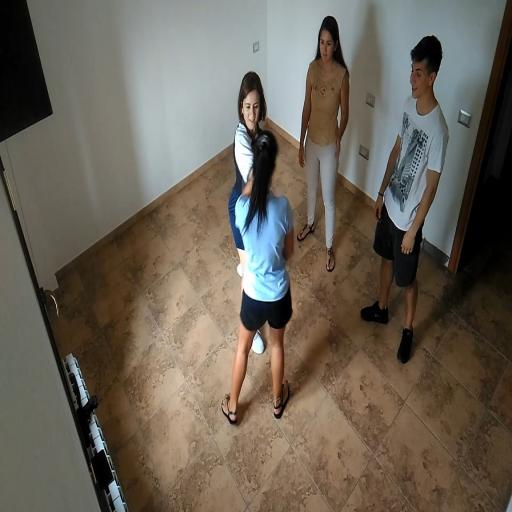violencia: (186, 65, 310, 430)
